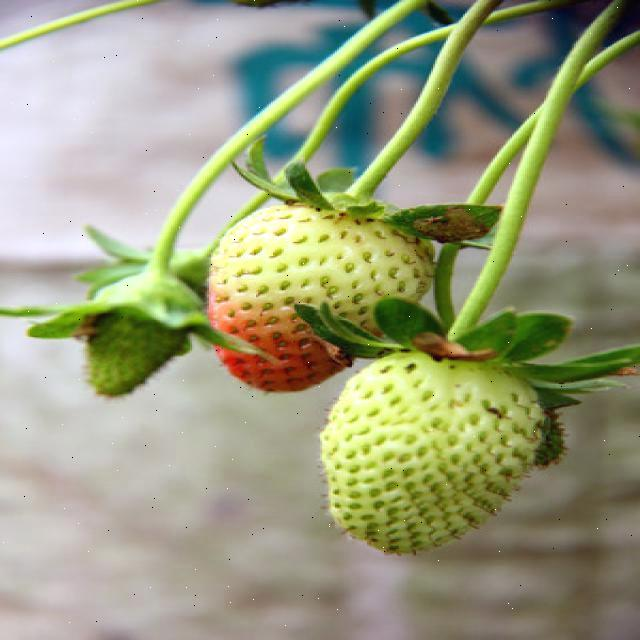unripe: (320, 352, 542, 554), (208, 200, 426, 390), (86, 272, 190, 399)
